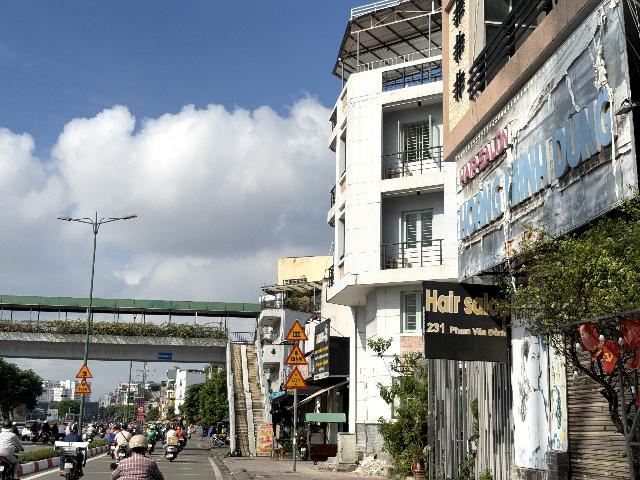chieu-cao-tinh-khong-thuc-te: (284, 366, 308, 389)
di-cham: (284, 343, 309, 365), (74, 378, 92, 393)
noi-giao-nhau-voi-duong-sat-co-rao-chan: (284, 319, 309, 341), (76, 363, 93, 378)
